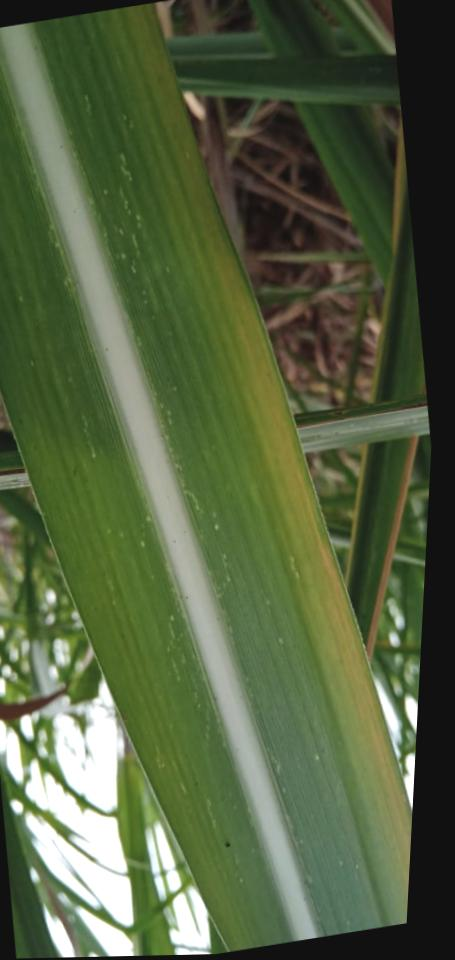Rust: (222, 840, 231, 848)
Yellow: (313, 536, 411, 888)
